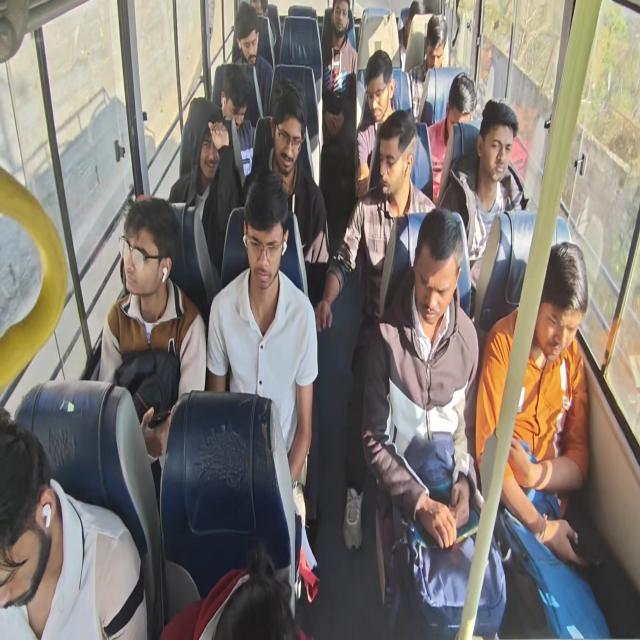person: (361, 207, 507, 638), (314, 109, 437, 550), (205, 169, 318, 525), (475, 240, 592, 569), (96, 195, 206, 521), (0, 406, 148, 639), (314, 109, 437, 329), (242, 77, 330, 274), (439, 98, 526, 293), (168, 96, 241, 293), (159, 547, 306, 639), (320, 0, 358, 255), (354, 49, 398, 199), (426, 72, 476, 200), (212, 66, 256, 188), (232, 3, 274, 128), (409, 14, 448, 122), (472, 33, 495, 122)
